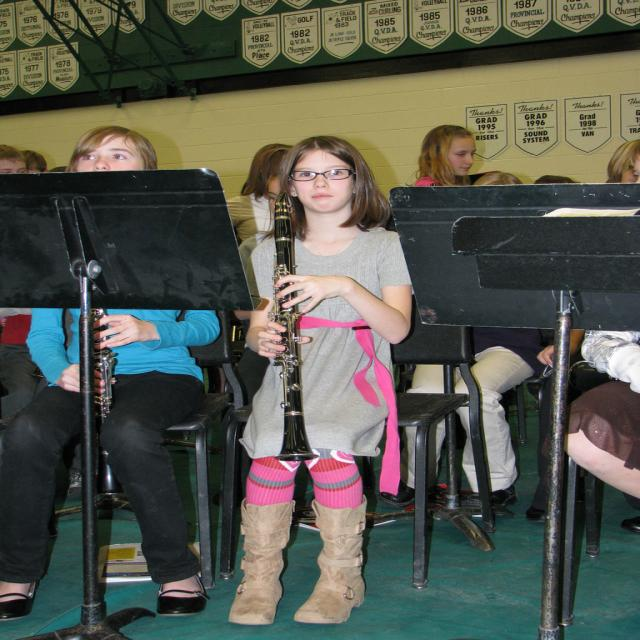clarinet: (273, 181, 318, 470), (82, 304, 127, 423)
